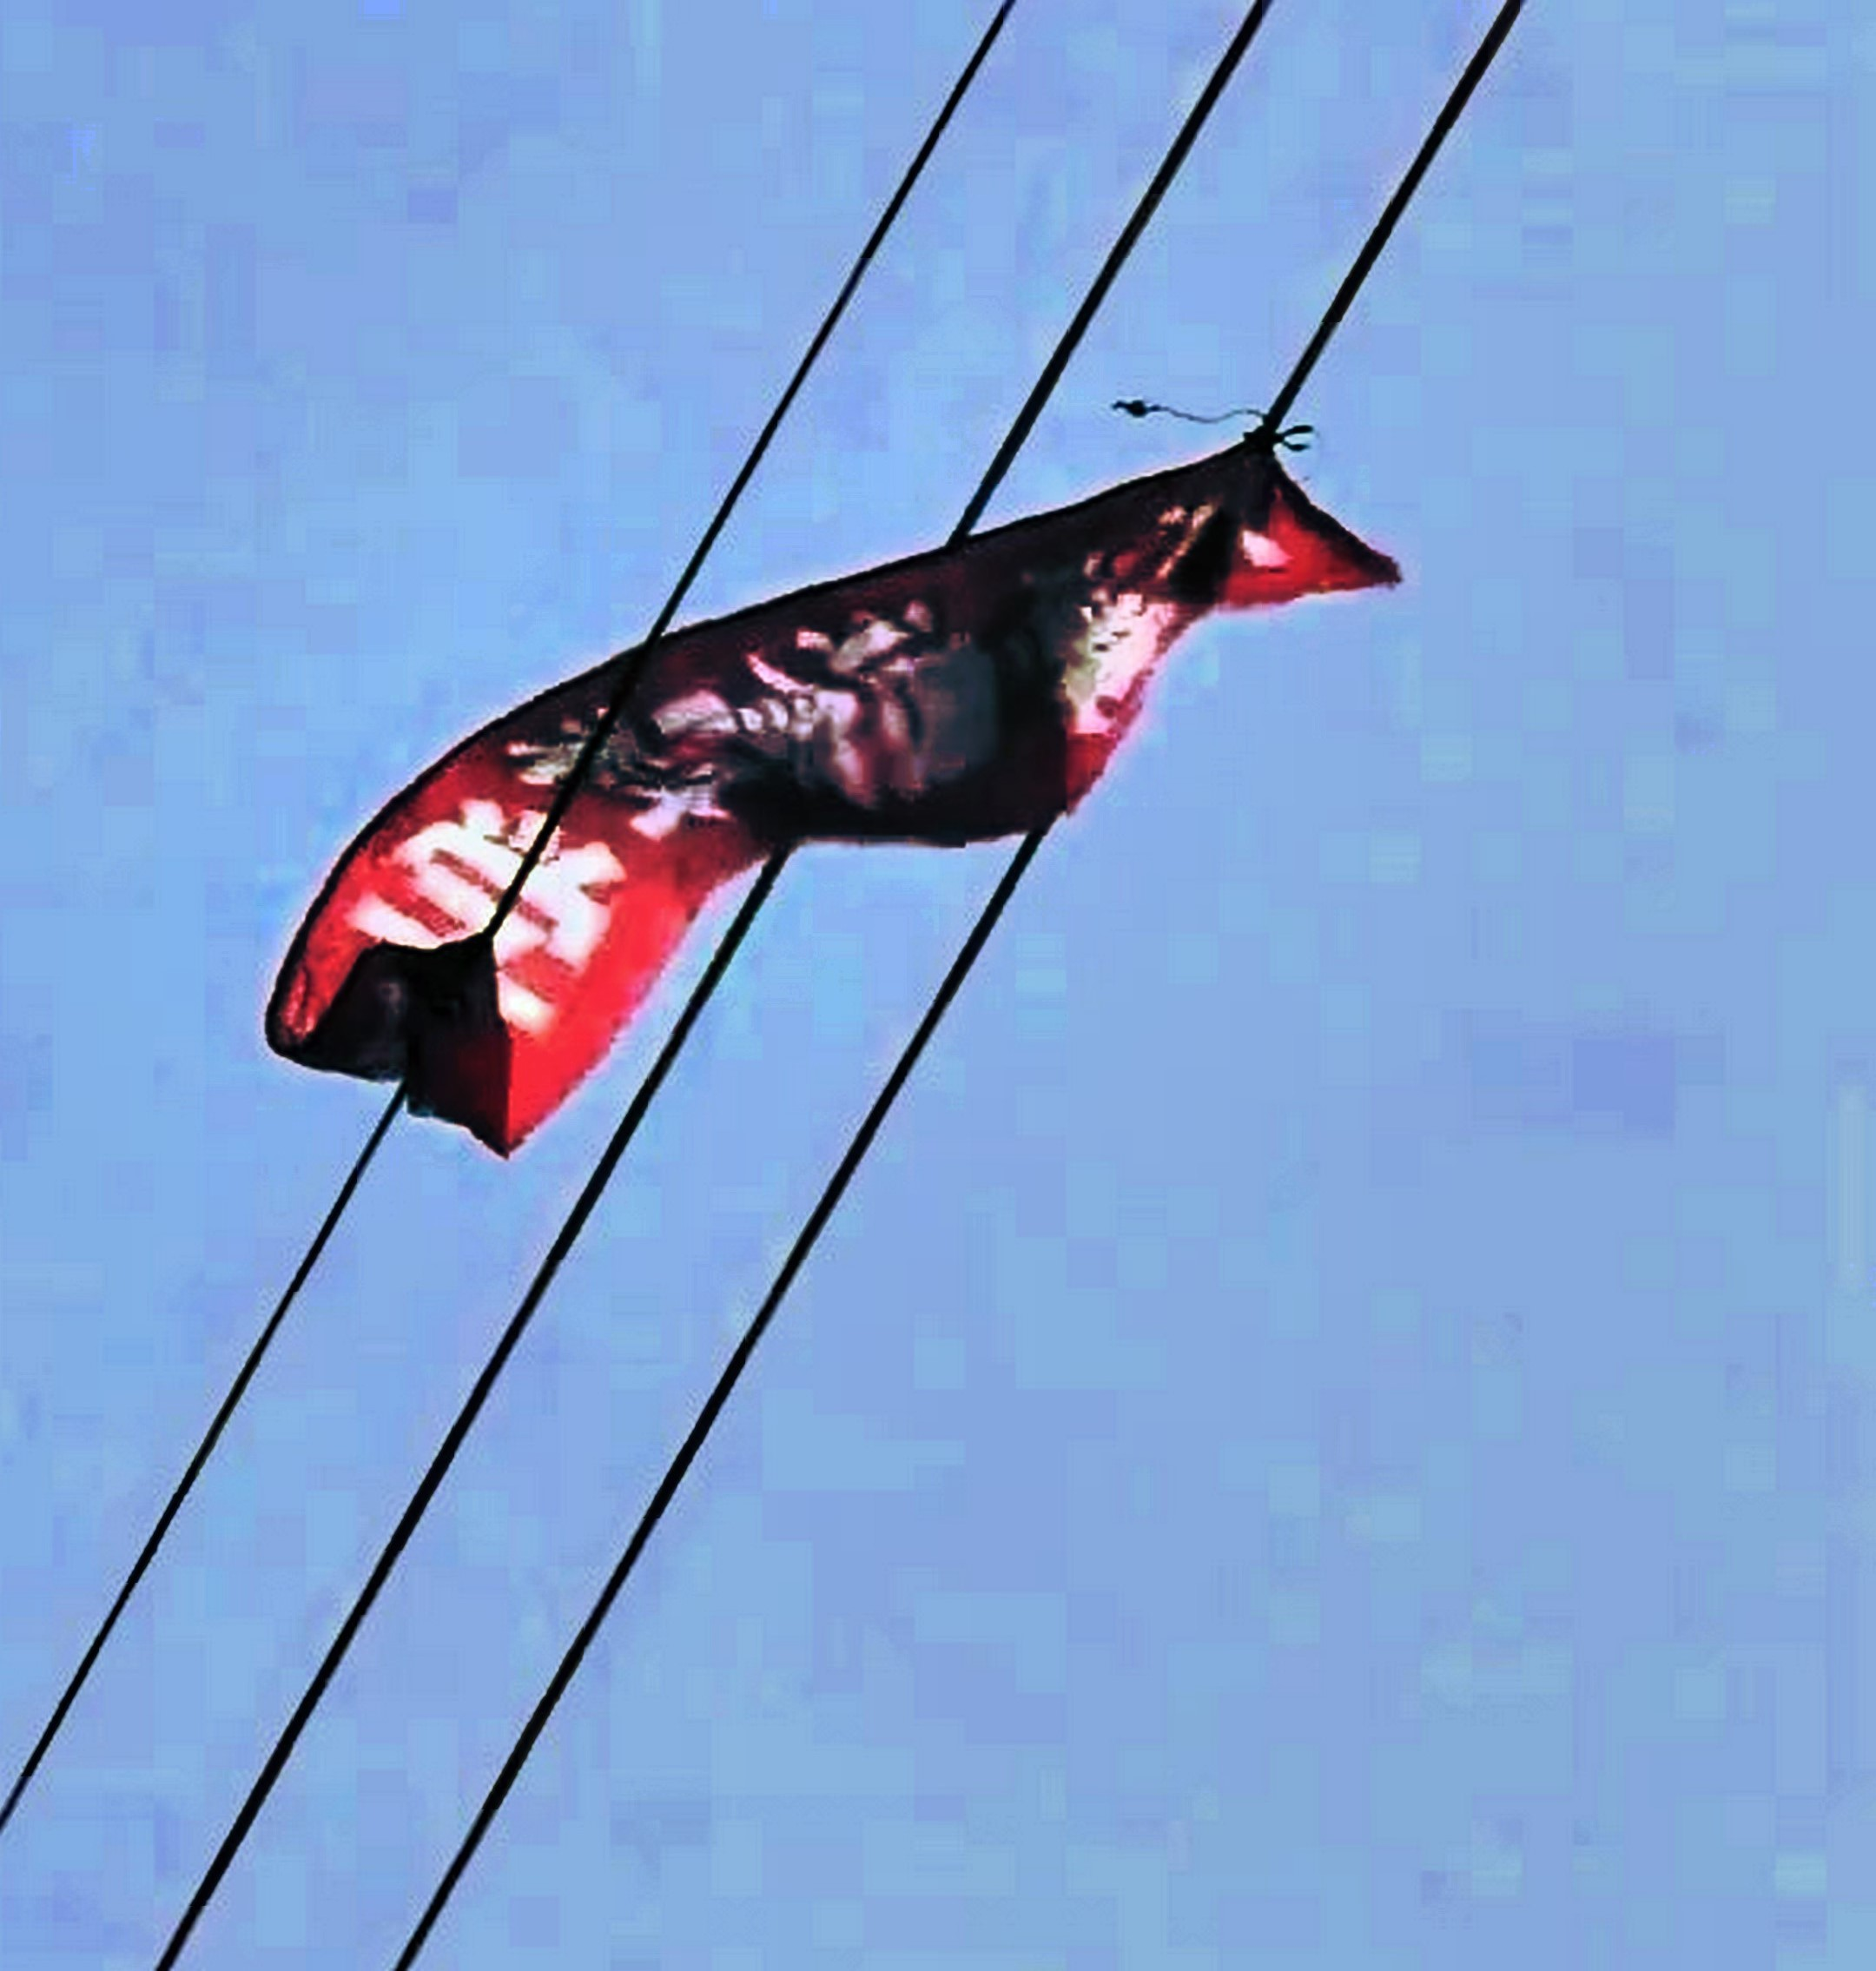wire foreign body: (206, 364, 1396, 1225)
